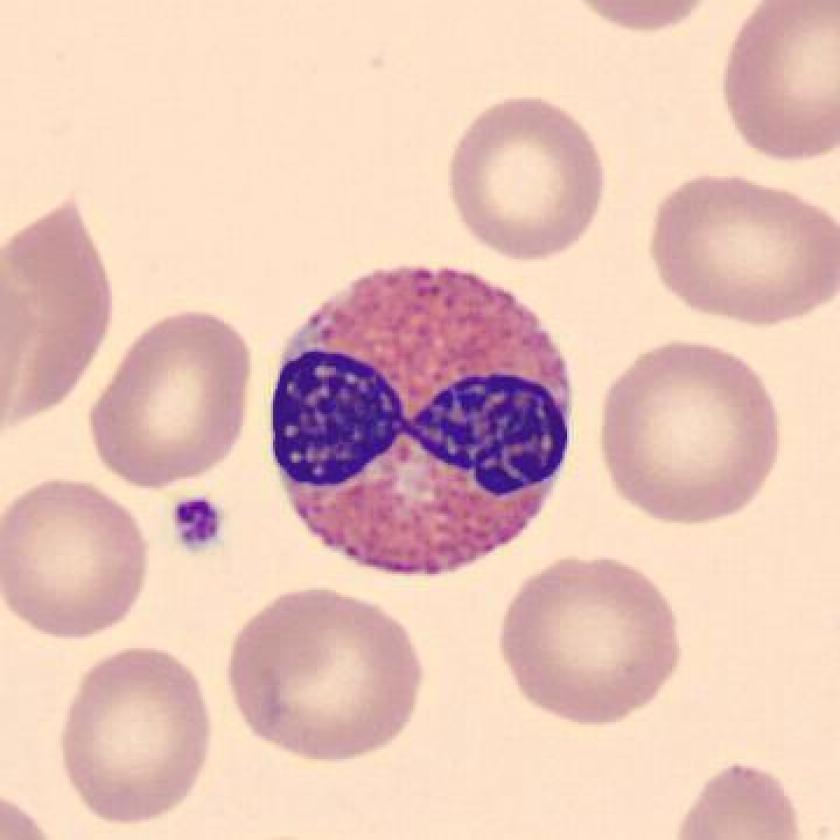eosinophil: (265, 249, 584, 587)
